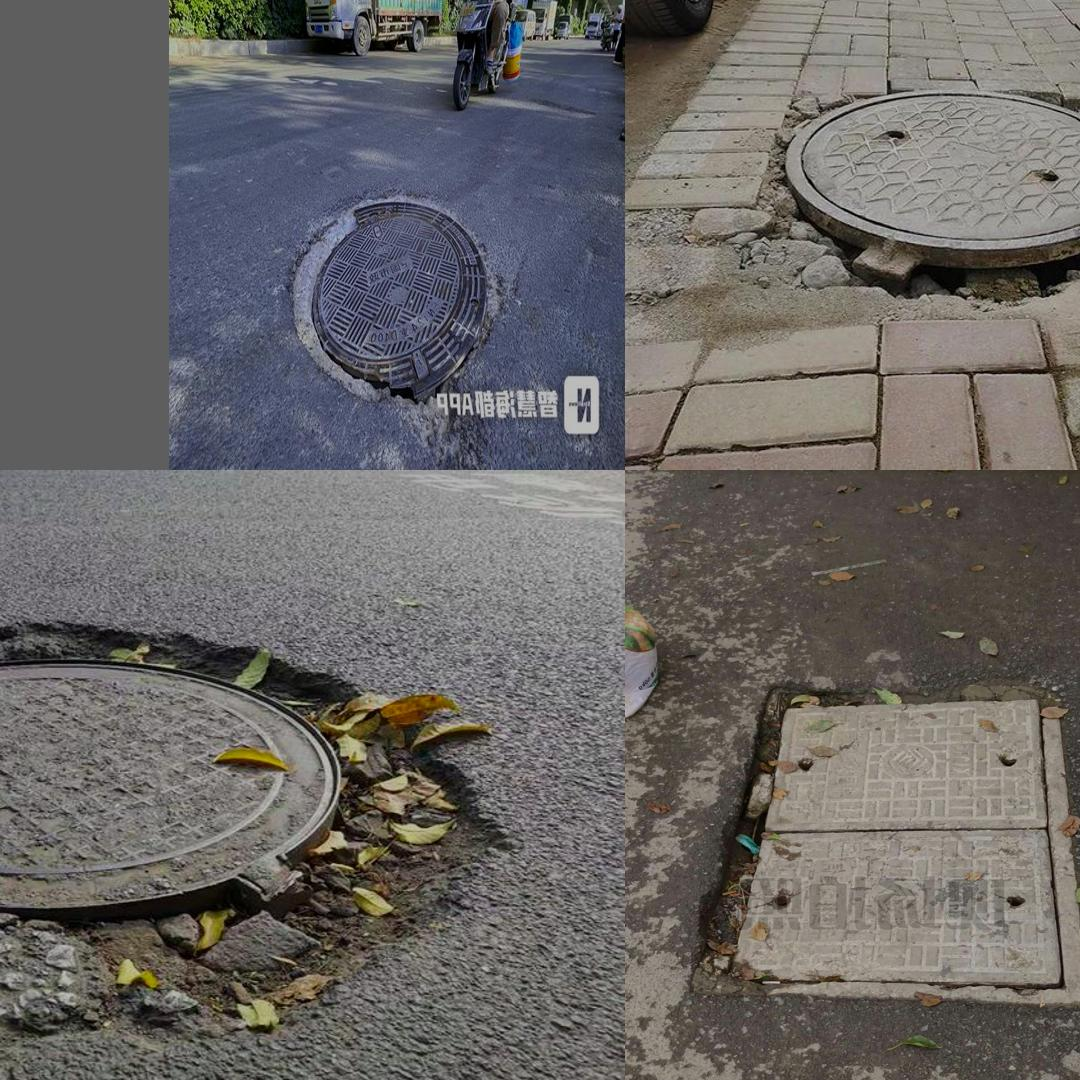circle: (0, 620, 487, 1041), (687, 685, 1080, 1003), (718, 75, 1080, 350), (259, 167, 524, 427)
